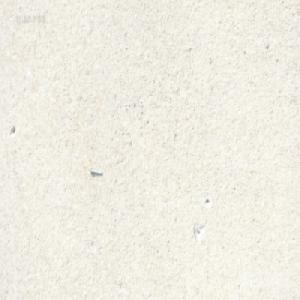Nail: (89, 165, 102, 174)
